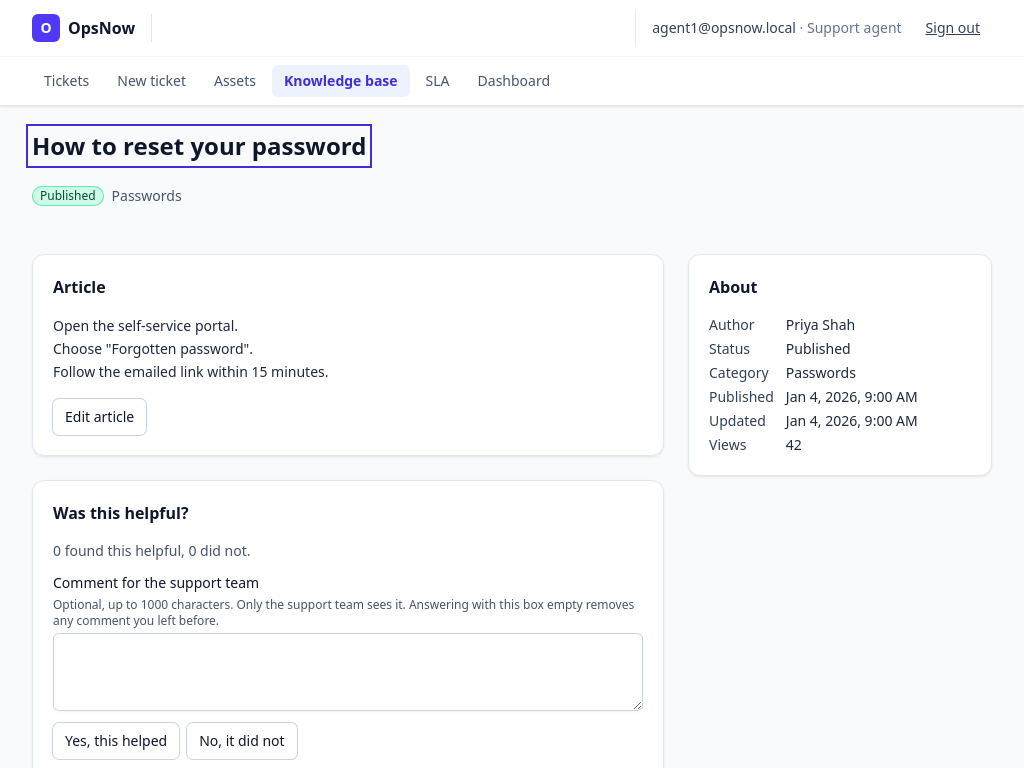
Test: article detail — editing › sends no request at all when Save is pressed with nothing changed
Expected: the heading "How to reset your password" is shown, [32,130,366,162]
Step 1. Click the button "Edit article" → (100, 417), box [53,399,146,435]
(page scrolled)
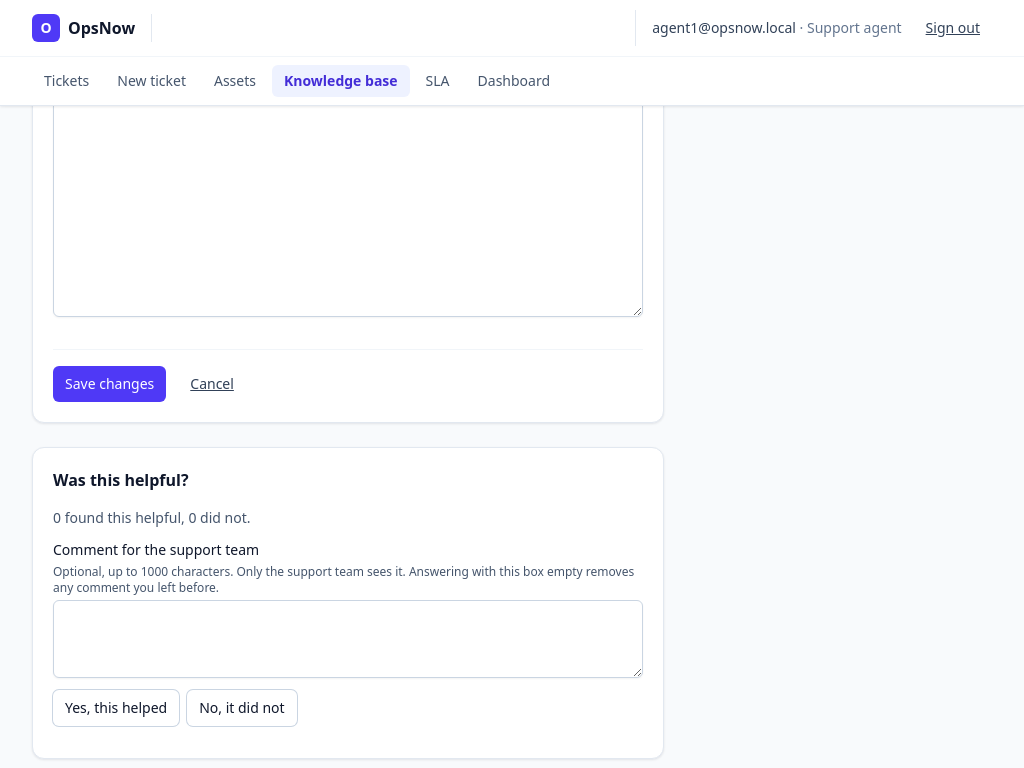
Step 2. Click the button "Save changes" → (110, 384), box [53,366,166,402]
(page scrolled)
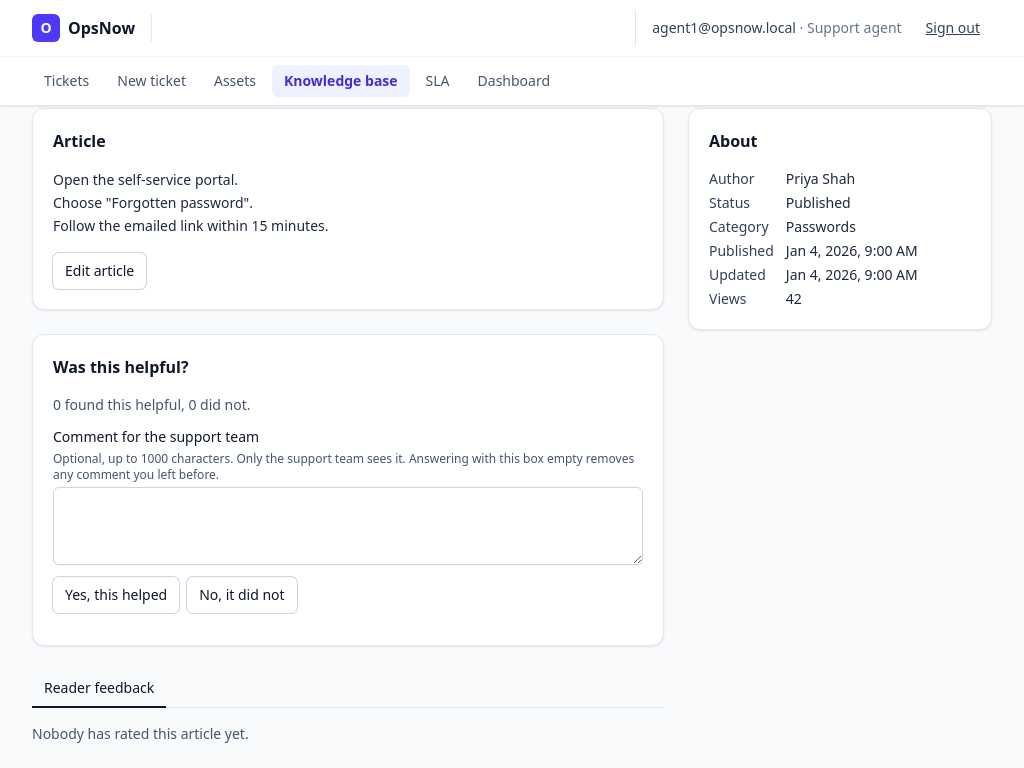
Now the button "Save changes" is gone
